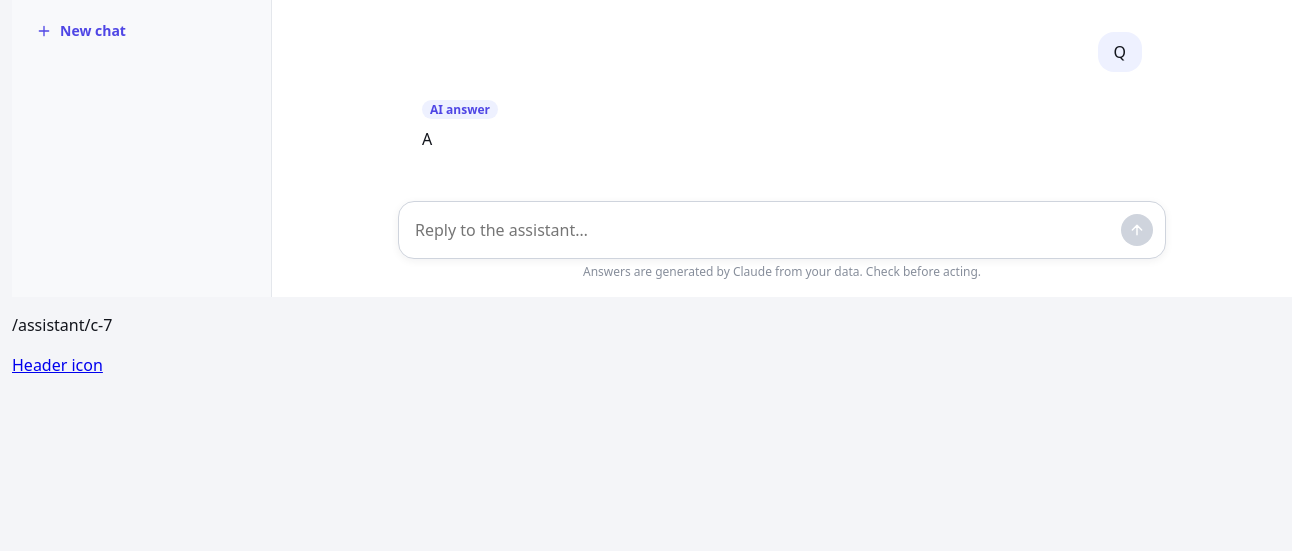
Scenario: AssistantPage › continues a saved conversation with its id
This screenshot has width=1292, height=551.
Expected: the text "A" is shown, [422,128,432,150]
Type "And?" into the text box named "Your question" at (764, 230), box [415,214,1113,246]
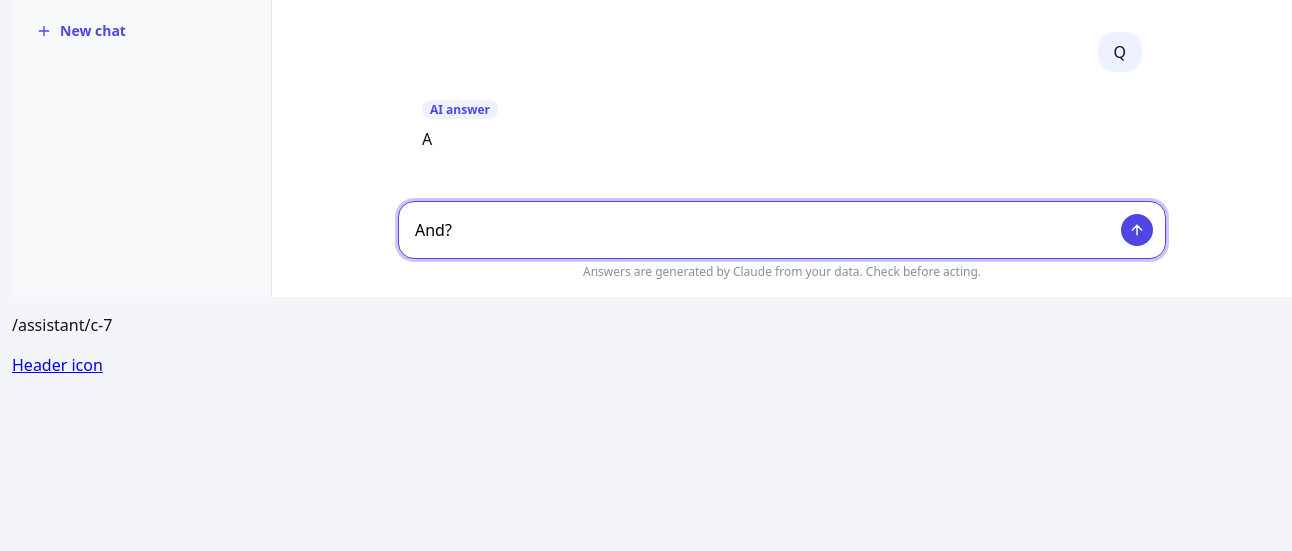
Click the button named "Send" at (1137, 230), box [1121,214,1153,246]
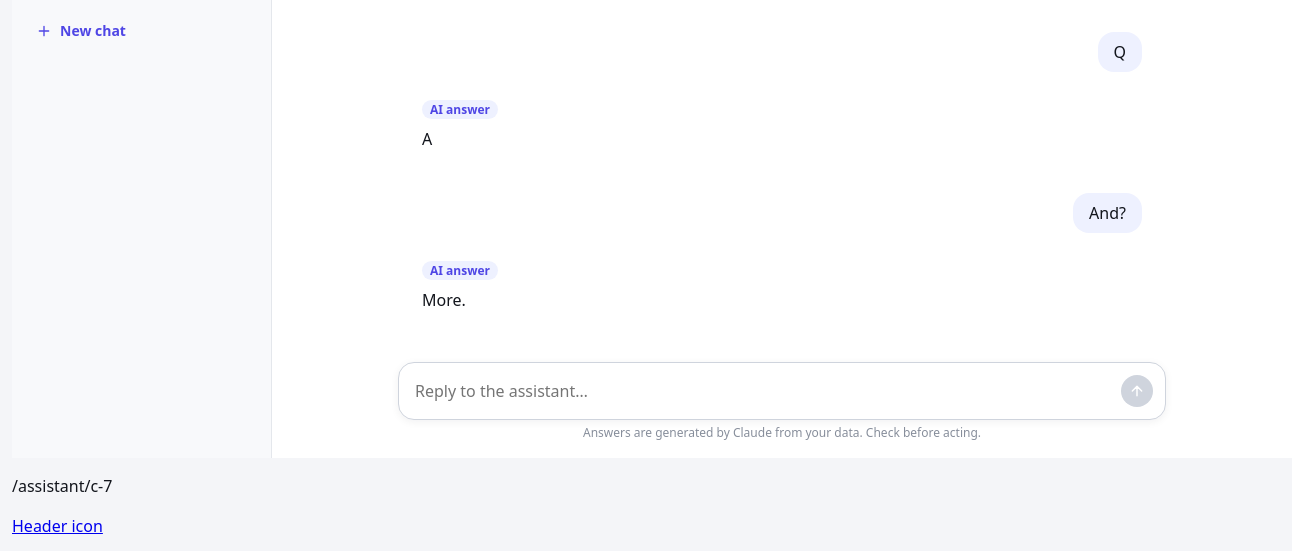
Expected: the text "More." is shown, [422,289,466,311]
